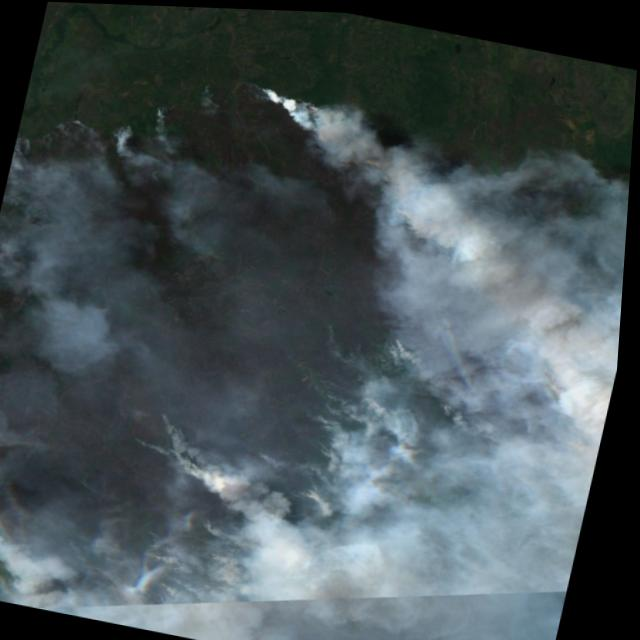fire: (0, 31, 638, 640)
